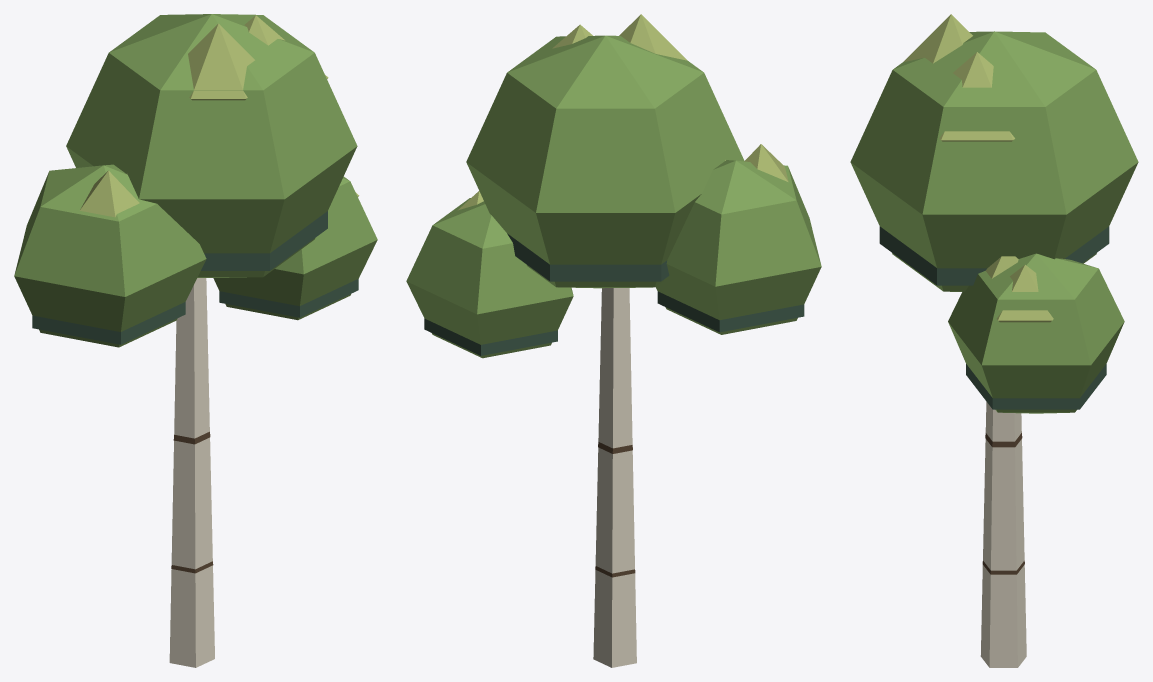
The model's file is tree-birch.glb.
3 views of the same model, side by side, from view 1: azimuth 30°, elevation 25°; view 2: azimuth 150°, elevation 25°; view 3: azimuth 270°, elevation 25° (orthographic). The views are drawn at different scales.
Visible parts, largest first — view 1: tree-birch; view 2: tree-birch; view 3: tree-birch.
Boxes of the visible parts, bbox=[...] form: tree-birch: bbox=[14, 14, 377, 667]; tree-birch: bbox=[406, 14, 821, 667]; tree-birch: bbox=[850, 14, 1138, 667].
Bounding box in the file's own units: 4.56 × 7.67 × 3.1.
1 material, 1 textured.
